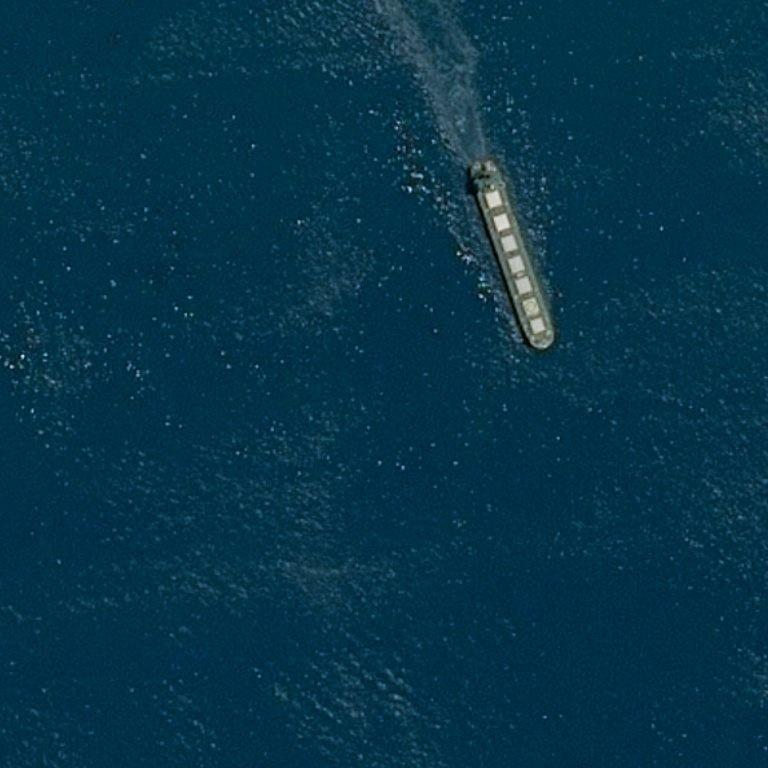ship: (496, 150, 528, 357), (542, 341, 549, 347), (489, 11, 494, 17), (469, 171, 473, 175)
